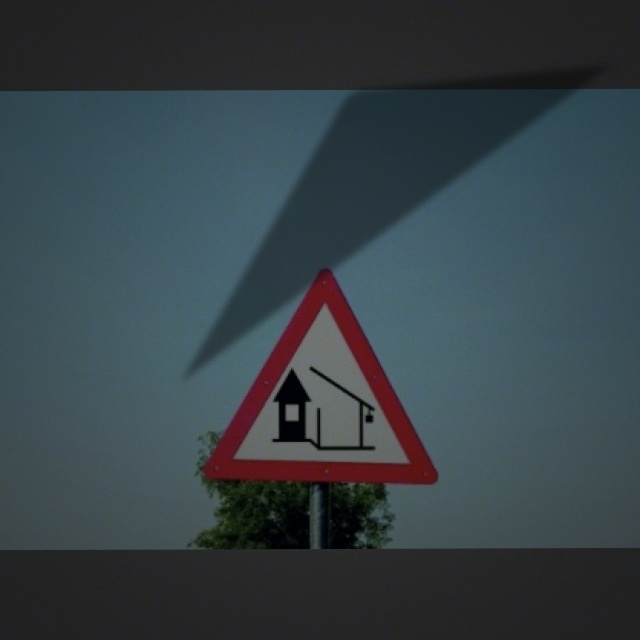Barrier_Ahead: (190, 257, 458, 493)
